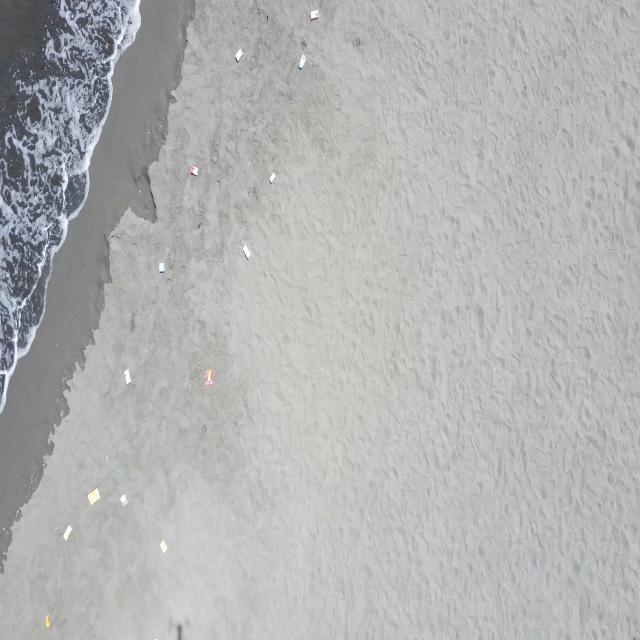retort-pouch: (87, 488, 100, 508), (62, 524, 74, 542), (243, 242, 252, 262), (119, 492, 128, 510), (124, 367, 132, 387), (159, 538, 168, 555), (205, 369, 213, 388), (235, 46, 243, 64), (298, 53, 306, 71), (310, 8, 320, 22), (189, 164, 199, 178), (158, 259, 166, 276), (268, 170, 276, 186), (45, 613, 51, 629)
